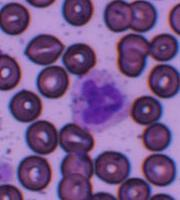N: (70, 68, 132, 132)
